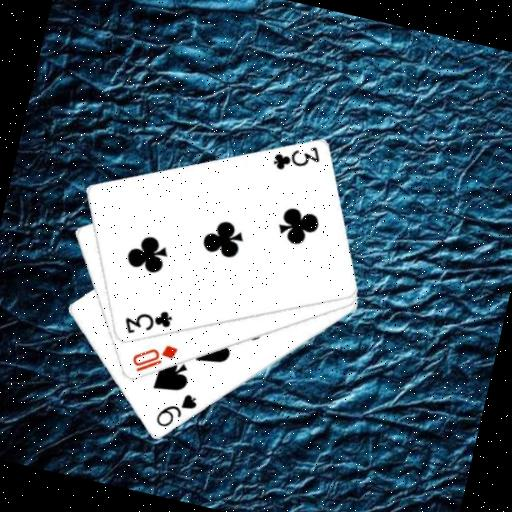10D: (126, 335, 181, 382)
3C: (267, 135, 324, 181), (119, 299, 176, 344)
9S: (152, 385, 201, 435)
